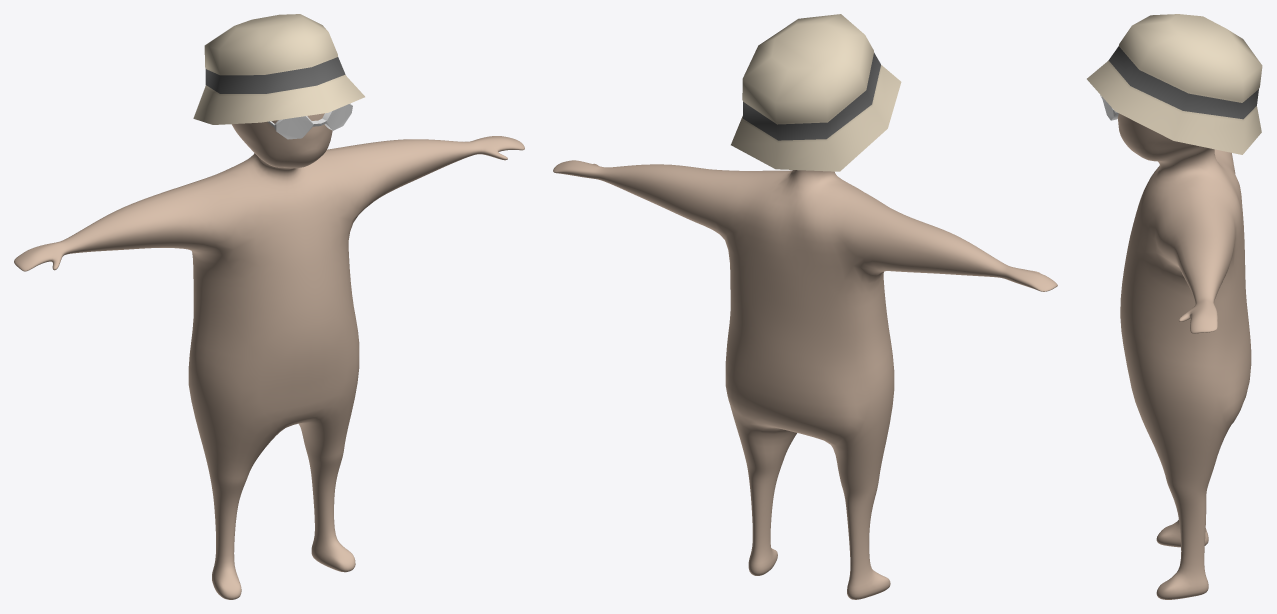
The model's file is baseMale.fbx.
The picture shows the model from 3 angles, left to right: view 1: azimuth 30°, elevation 25°; view 2: azimuth 150°, elevation 25°; view 3: azimuth 270°, elevation 25°; orthographic projection.
Visible parts, largest first — view 1: Cylinder001.001, Hat.001, Cylinder002.001; view 2: Cylinder001.001, Hat.001; view 3: Cylinder001.001, Hat.001.
Part boxes in pixels (left/top/right/bottom): Cylinder001.001: left=14, top=113, right=524, bottom=599; Hat.001: left=193, top=14, right=364, bottom=124; Cylinder002.001: left=267, top=103, right=352, bottom=139; Cylinder001.001: left=553, top=160, right=1057, bottom=599; Hat.001: left=731, top=14, right=901, bottom=171; Cylinder001.001: left=1117, top=113, right=1251, bottom=599; Hat.001: left=1087, top=14, right=1262, bottom=154.
Size of the model in its own units: 140 by 149 by 43.23.
